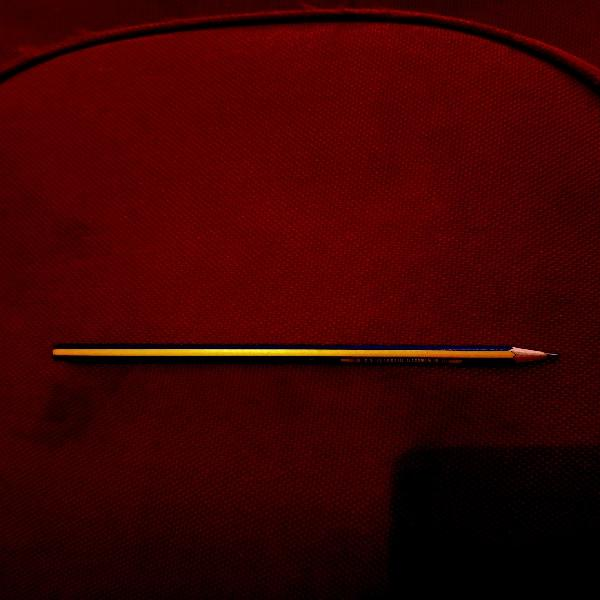pencil: (49, 342, 562, 370)
